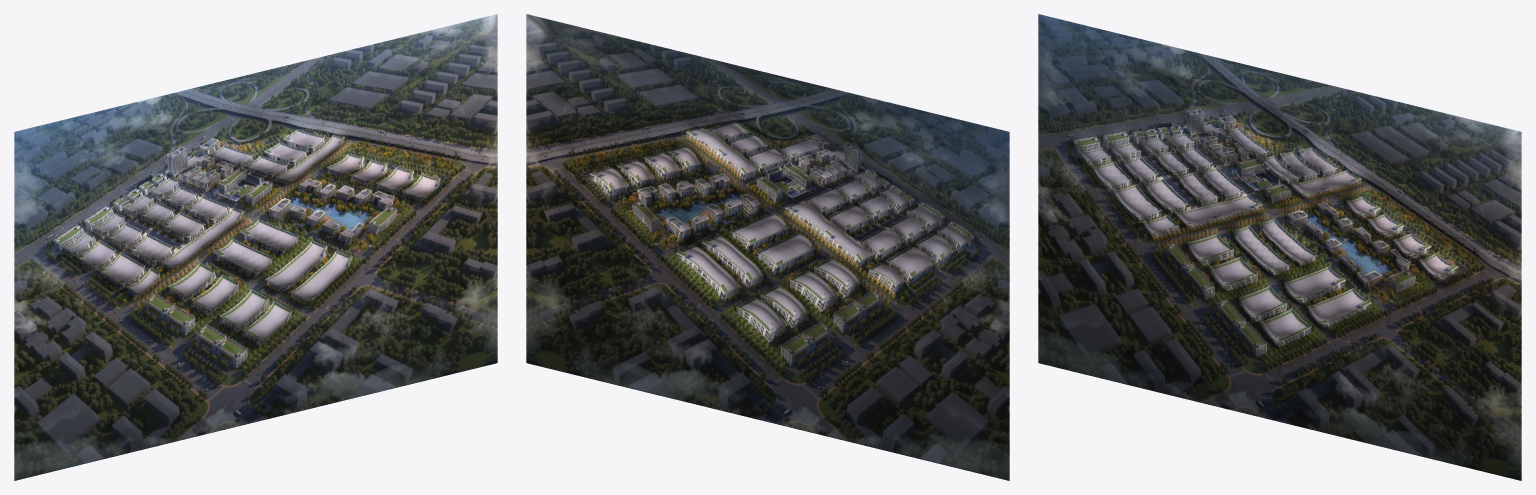
File: park-aerial-relief.glb
3 renders of one model, left to right at view 1: azimuth 30°, elevation 25°; view 2: azimuth 150°, elevation 25°; view 3: azimuth 330°, elevation 25°, orthographic.
Parts seen in each view (by area): view 1: Park aerial relief; view 2: Park aerial relief; view 3: Park aerial relief.
Part boxes in pixels (box(x1,y1,x2,y2)): Park aerial relief: box(14, 14, 497, 480); Park aerial relief: box(526, 14, 1009, 480); Park aerial relief: box(1038, 14, 1521, 480).
Size of the model in its own units: 2.9 by 2 by 0.0985.
1 material, 1 textured.
